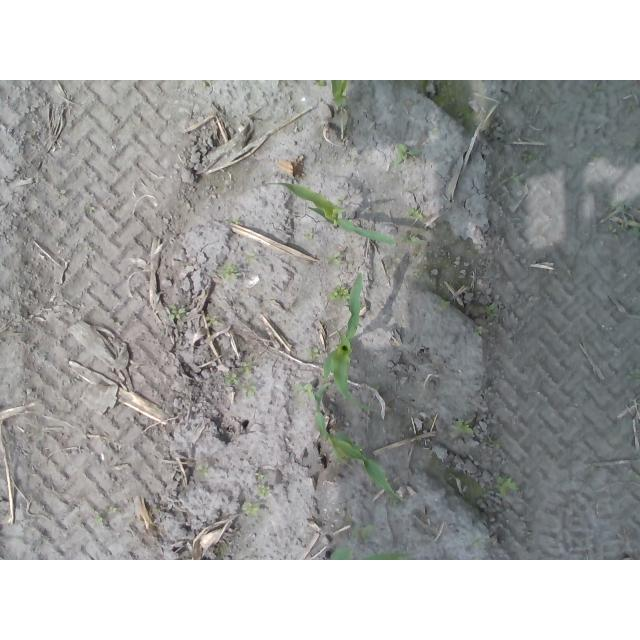Maize: (263, 177, 399, 252), (312, 411, 405, 504), (320, 270, 373, 414), (322, 546, 419, 560), (330, 80, 351, 109)
Weeds: (221, 362, 258, 395), (610, 208, 640, 239), (390, 143, 422, 165), (327, 283, 349, 301), (294, 382, 314, 401), (453, 418, 475, 435), (499, 476, 519, 494), (398, 233, 422, 247), (325, 251, 344, 267), (221, 265, 241, 280), (353, 526, 376, 539), (241, 502, 261, 515), (168, 307, 185, 321), (204, 316, 220, 329), (306, 347, 321, 359), (487, 303, 498, 318), (255, 485, 269, 496), (197, 464, 209, 476), (311, 80, 328, 88), (246, 253, 258, 264), (405, 207, 416, 218), (523, 151, 534, 161), (93, 516, 104, 525)
